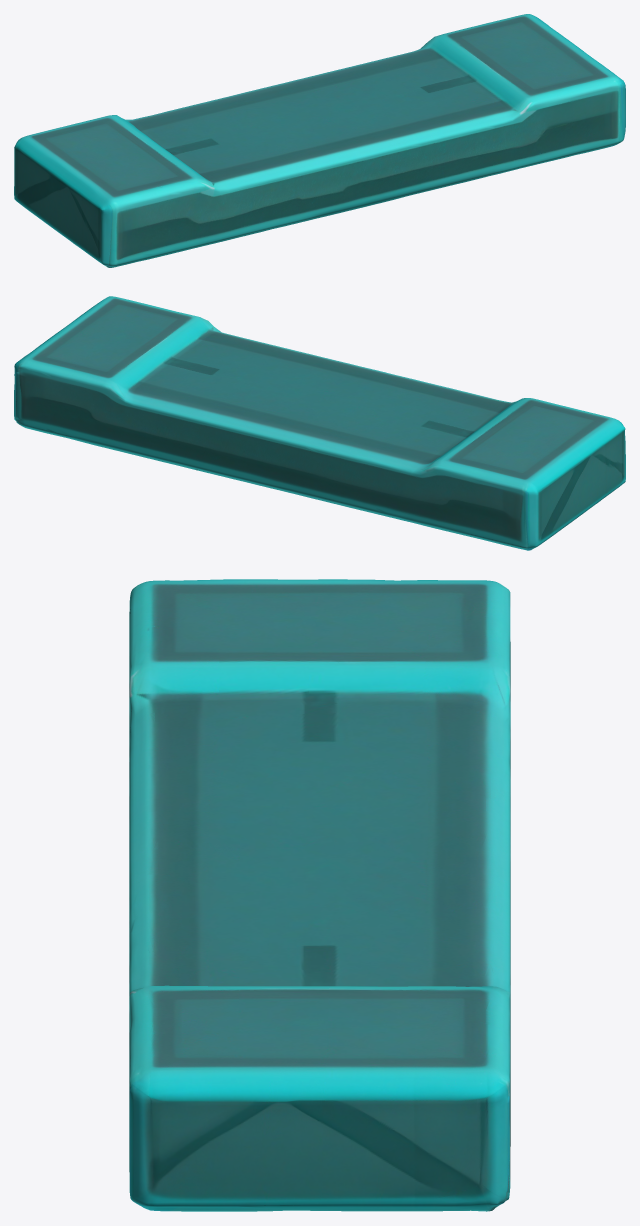
The model's file is slide.glb.
3 renders of one model, top to bottom at view 1: azimuth 30°, elevation 25°; view 2: azimuth 150°, elevation 25°; view 3: azimuth 270°, elevation 25°, orthographic. The views are drawn at different scales.
Size of the model in its own units: 2 by 0.2553 by 0.6314.
Materials: 1 (1 with a texture image).
